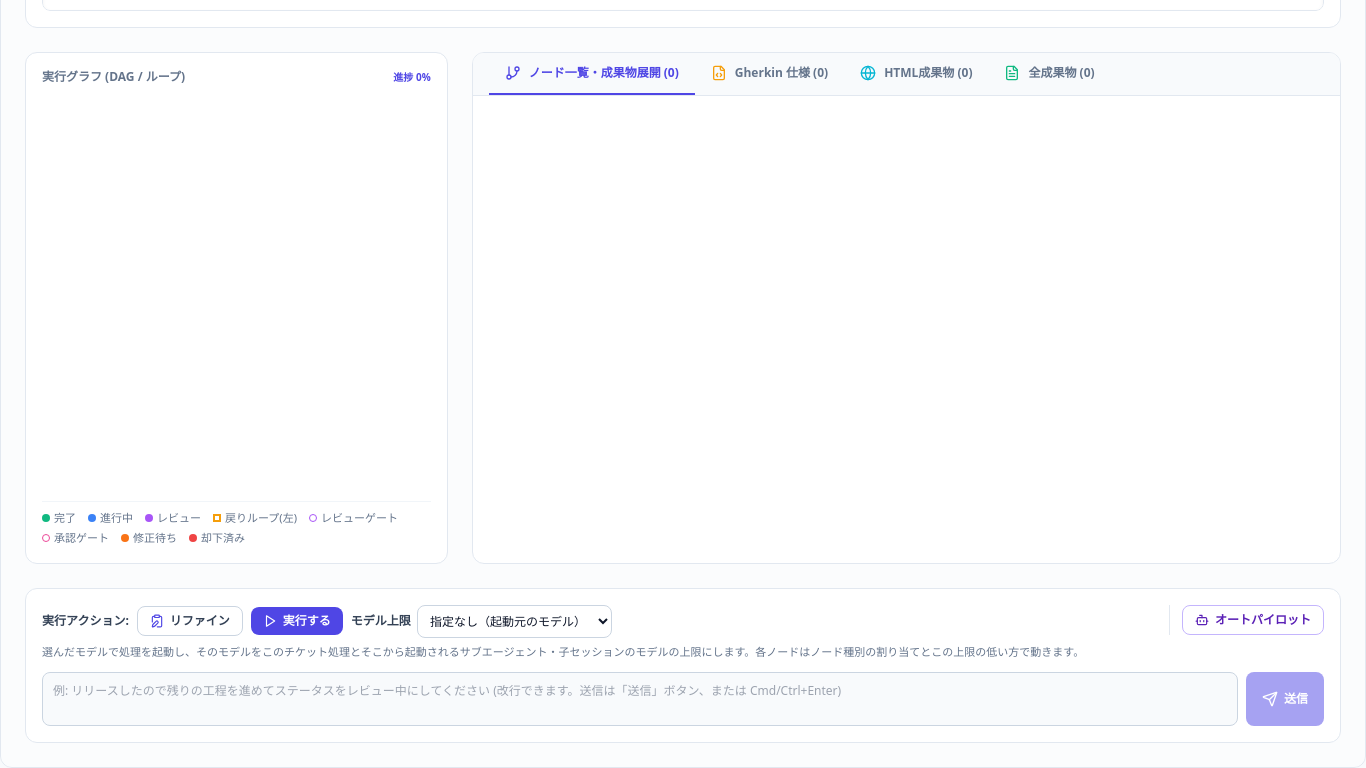
Test: TicketItem prompt row layout (ja) › keeps the Send button disabled until text is typed
(page scrolled)
Expected: the button "送信" is disabled, [1246,672,1324,726]
Replace the text in the text box named "Claude に送るプロンプト" with "続きを進めて": [640, 699] box [42,672,1238,726]
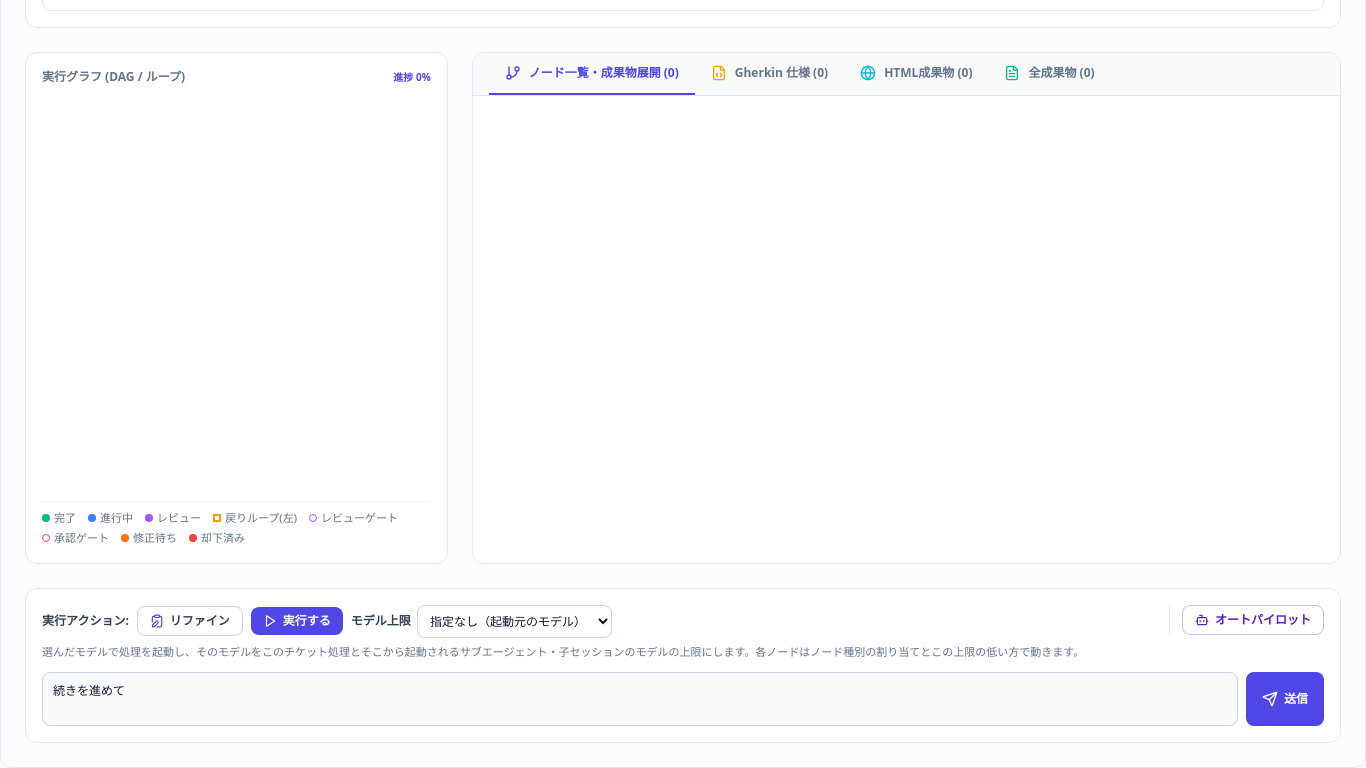
Now the button "送信" is enabled, box [1246,672,1324,726]
